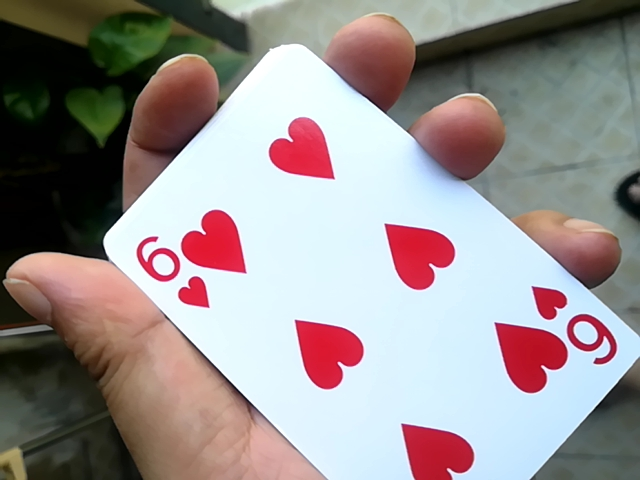hx 6: (89, 48, 628, 480)
